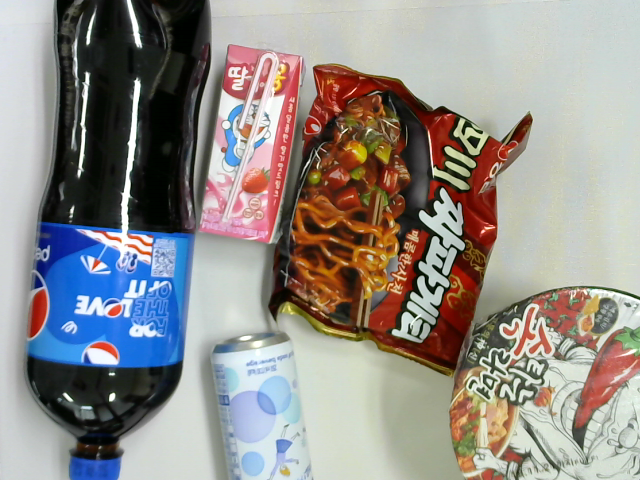HeJangsock: (446, 283, 640, 480)
Milkies_250ml: (213, 329, 318, 480)
Pepsi_Cola_1.5L: (24, 1, 212, 480)
Sichuan_Chapaghetti: (268, 63, 537, 377)
Strawberry_E_Mong: (196, 43, 306, 247)
